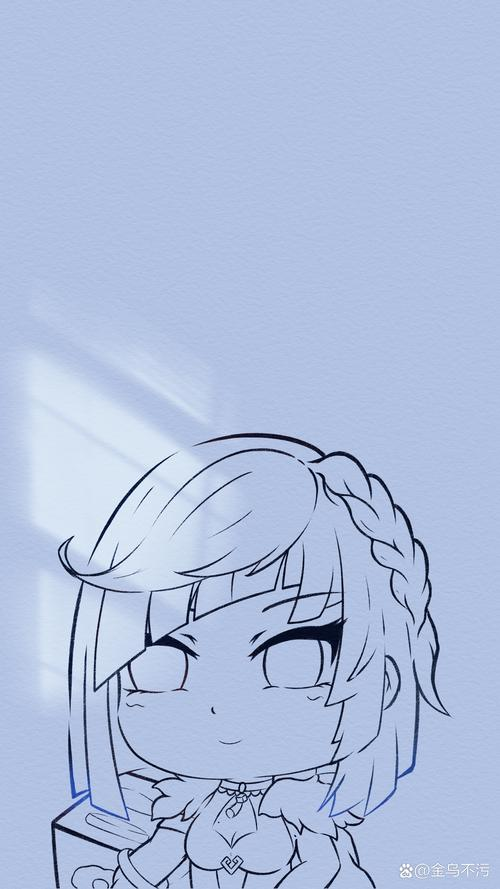夜兰: (35, 423, 459, 889)
